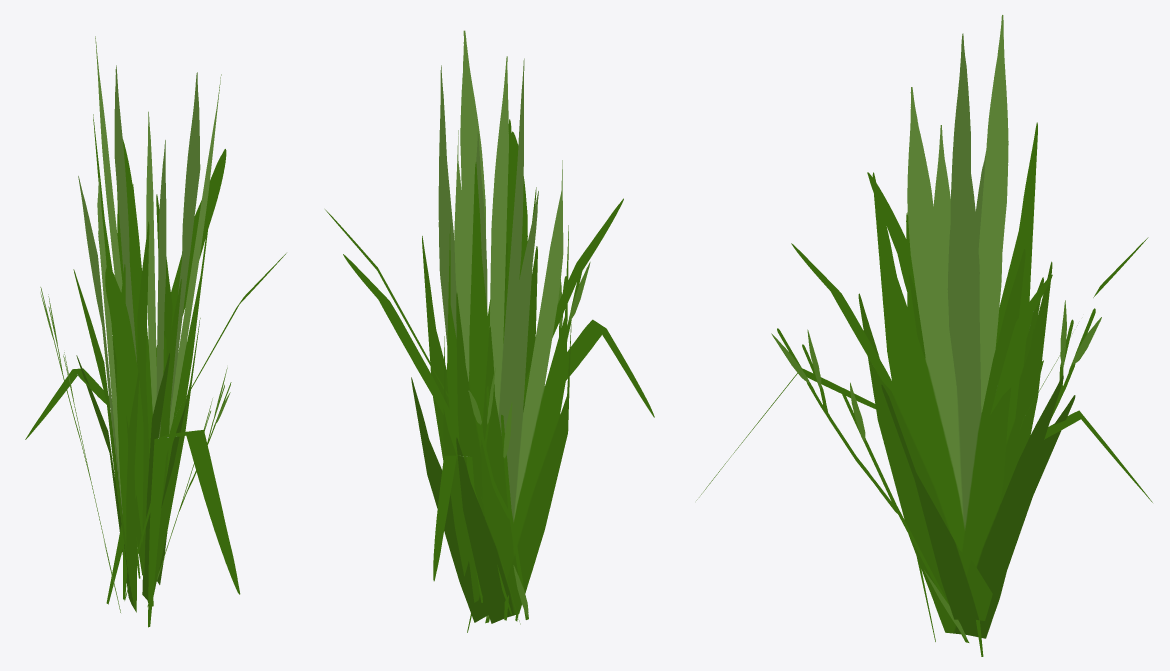
The model's file is PT_Iris_03.fbx.
The picture shows the model from 3 angles, left to right: view 1: azimuth 30°, elevation 25°; view 2: azimuth 150°, elevation 25°; view 3: azimuth 270°, elevation 25°; orthographic projection. The views are drawn at different scales.
Parts seen in each view (by area): view 1: PT_Iris_03_LOD0; view 2: PT_Iris_03_LOD0; view 3: PT_Iris_03_LOD0.
Part boxes in pixels (left/top/right/bottom): PT_Iris_03_LOD0: left=25, top=36, right=286, bottom=627; PT_Iris_03_LOD0: left=325, top=30, right=654, bottom=632; PT_Iris_03_LOD0: left=696, top=15, right=1152, bottom=656.
Size of what is drawn, in the model's own units: 38.25 by 99.82 by 67.56.
